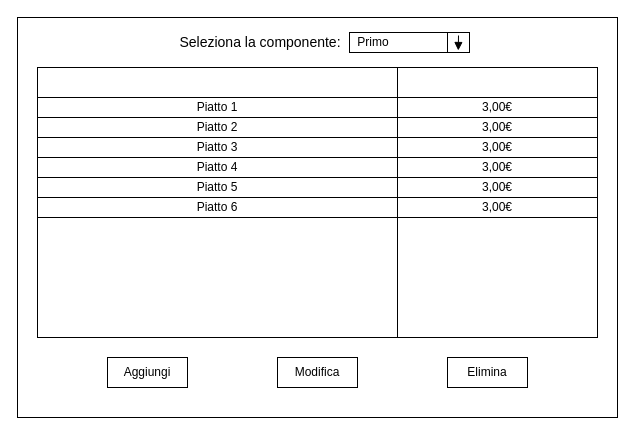
The diagram is 635 pixels wide and 435 high, and some of its shapes have lost their labels. The shapes that lost their labels are listed below. From the top down, each one's centre as x and y in pixels, then its label:
At pixel 217 82: "Nome del Piatto".
At pixel 497 82: "Prezzo".
